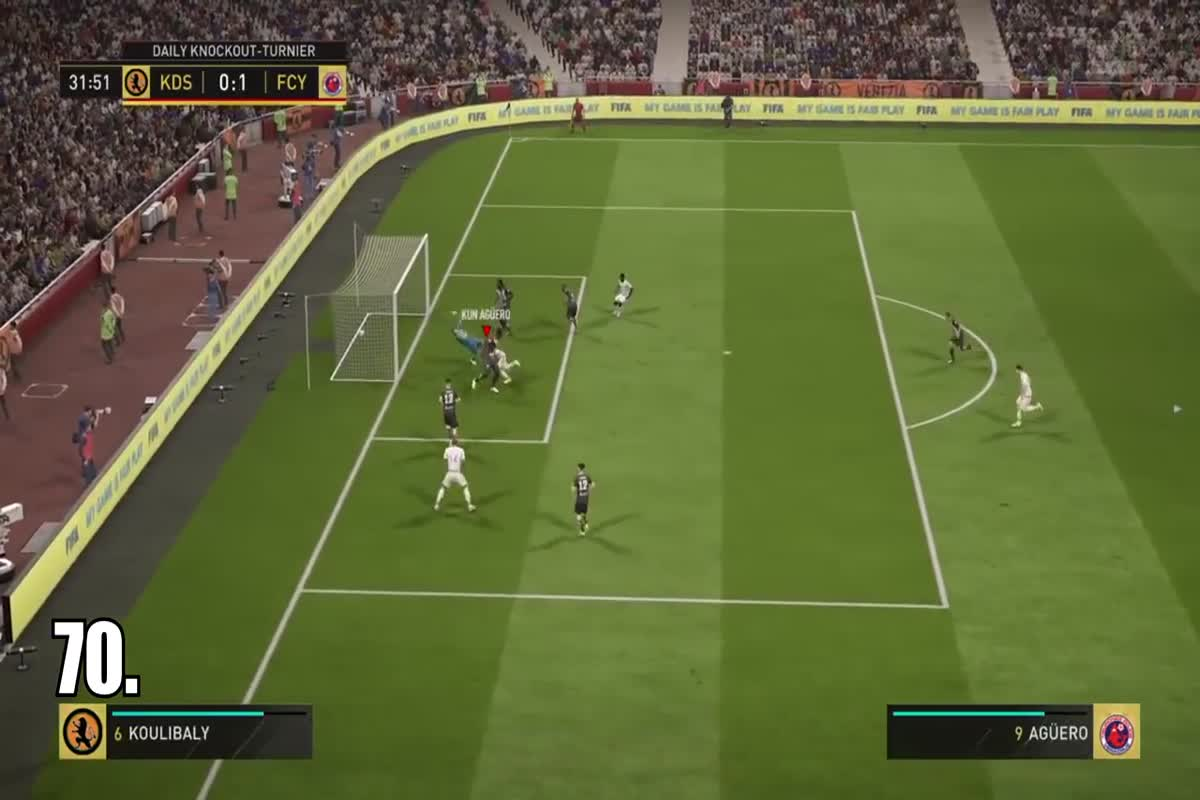ball: (353, 326, 370, 343)
